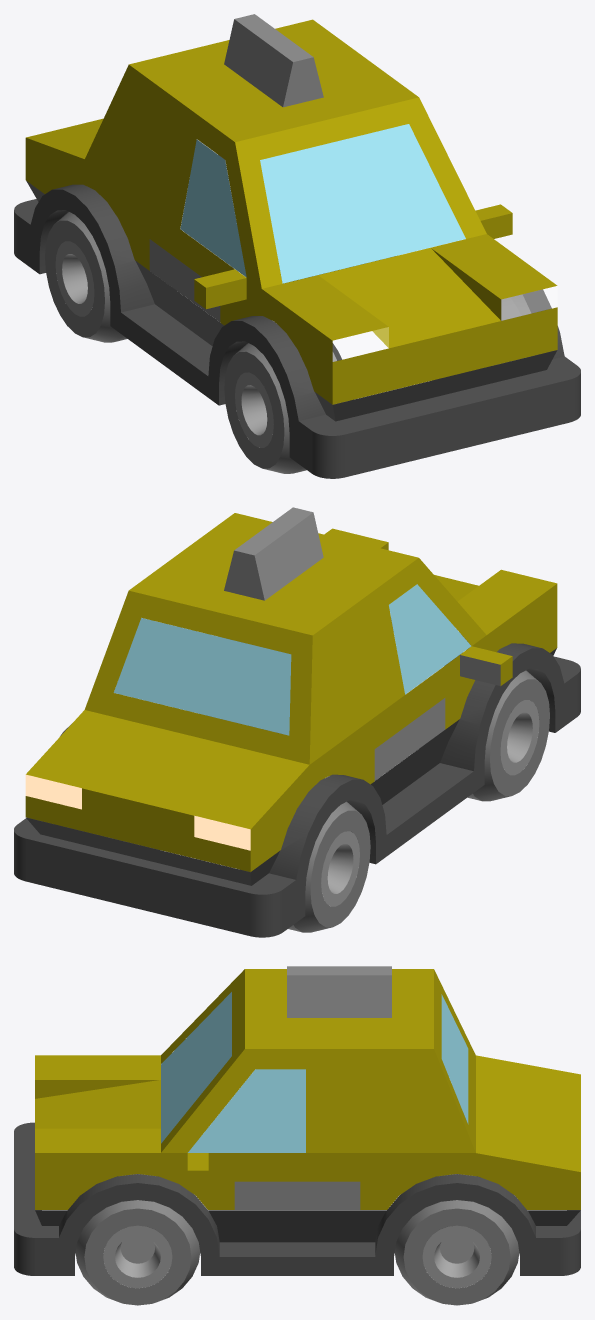
File: taxi.glb
3 views of the same model, one above another, from view 1: azimuth 30°, elevation 25°; view 2: azimuth 150°, elevation 25°; view 3: azimuth 270°, elevation 25° (orthographic). The views are drawn at different scales.
Visible parts, largest first — view 1: body; view 2: body; view 3: body.
Part boxes in pixels (box(x1,y1,x2,y2)): body: box(14, 14, 580, 478); body: box(14, 507, 580, 937); body: box(14, 966, 580, 1305).
Size of the model in its own units: 1.95 by 1.95 by 3.51.
3 materials, 3 textured.
